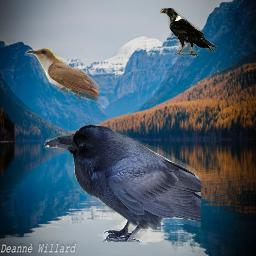Crow: (44, 124, 201, 242), (160, 8, 217, 57)
Cuckoo: (24, 48, 99, 103)
